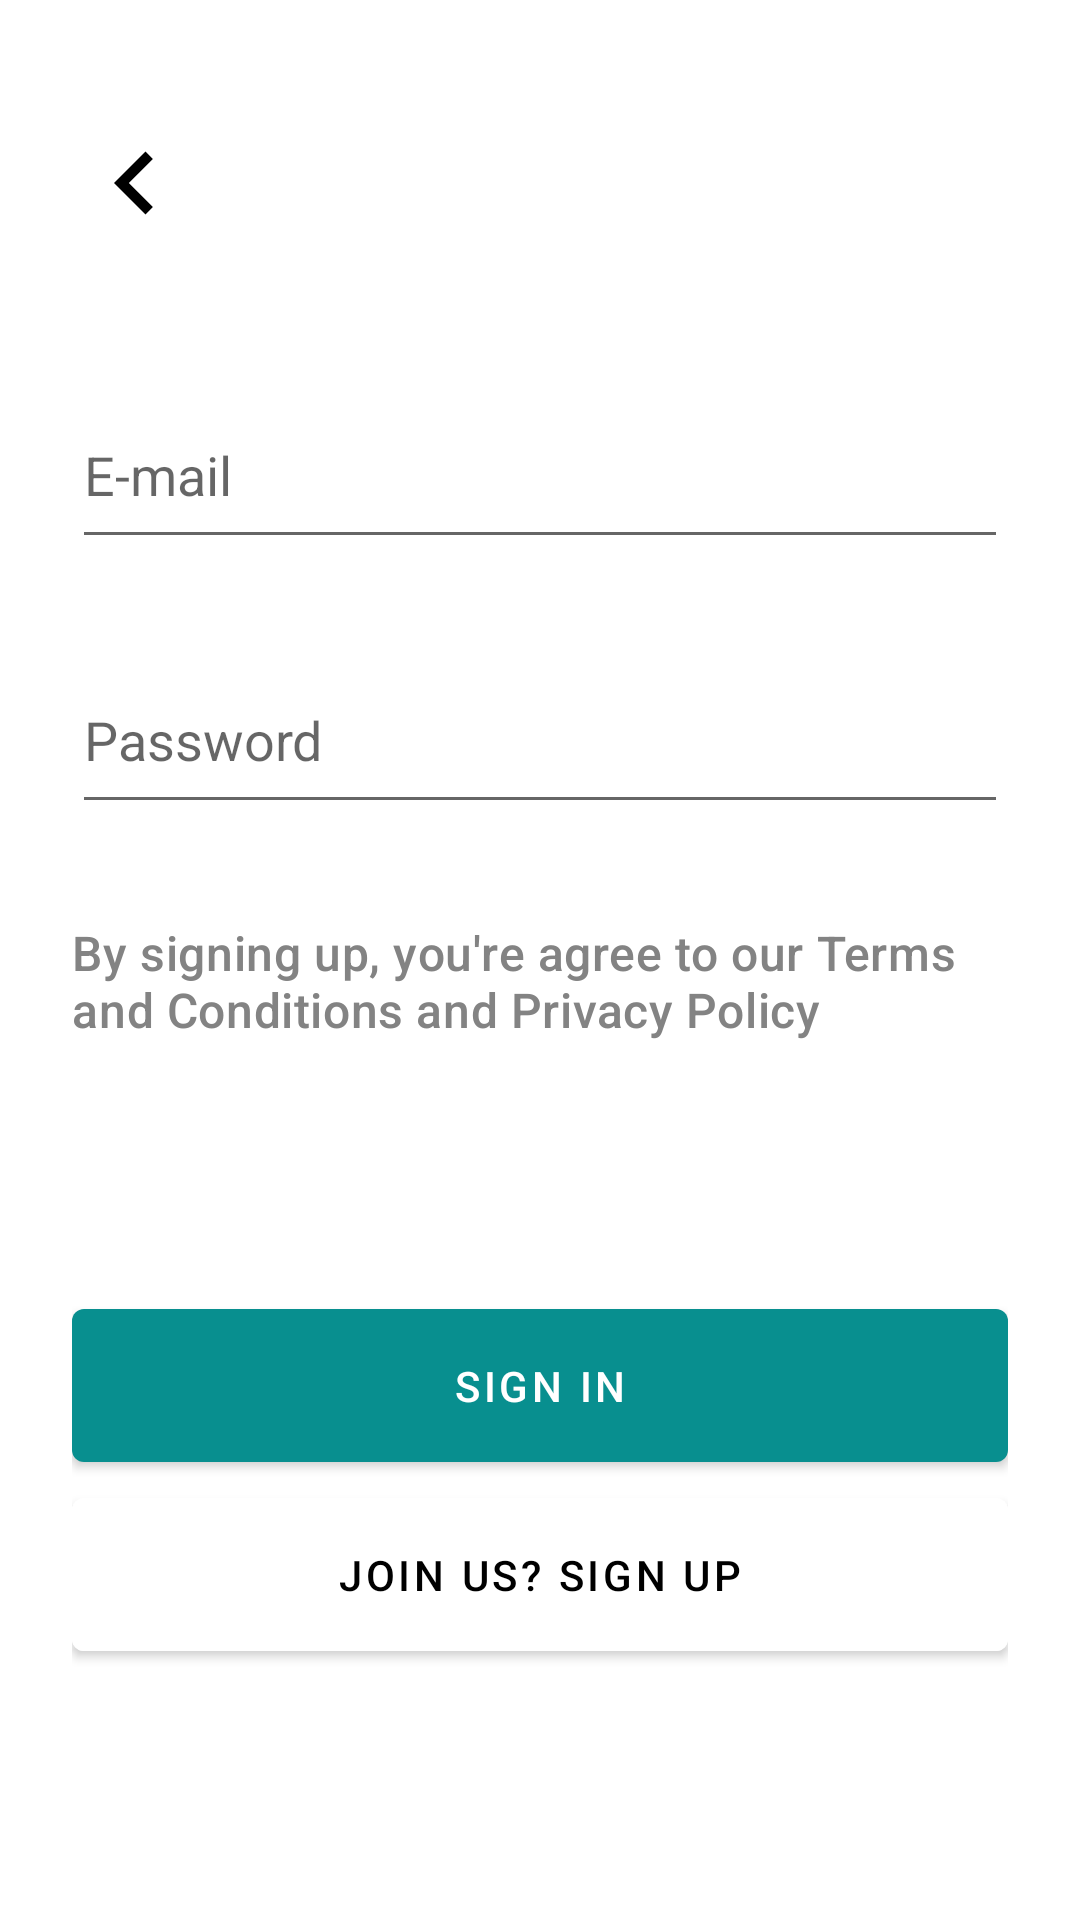

Screen size 1080*1920. Icon name, then its center in pixels as (x=x, y=y):
chevron left: (x=133, y=183)
